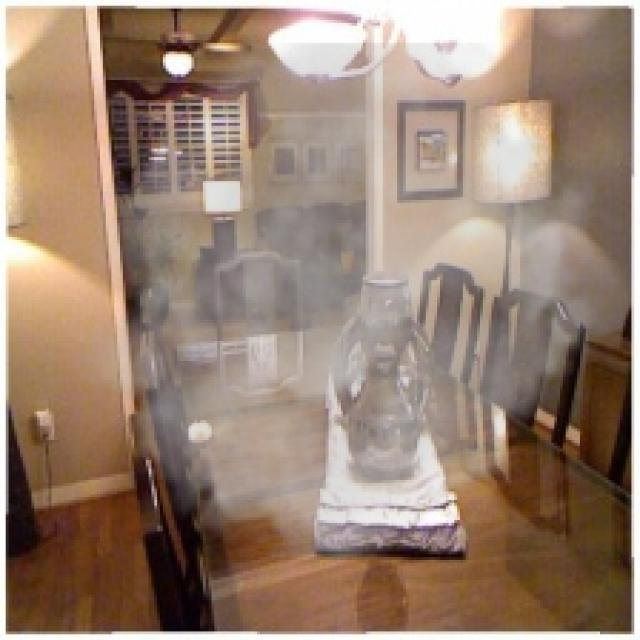smoke: (74, 43, 617, 557)
